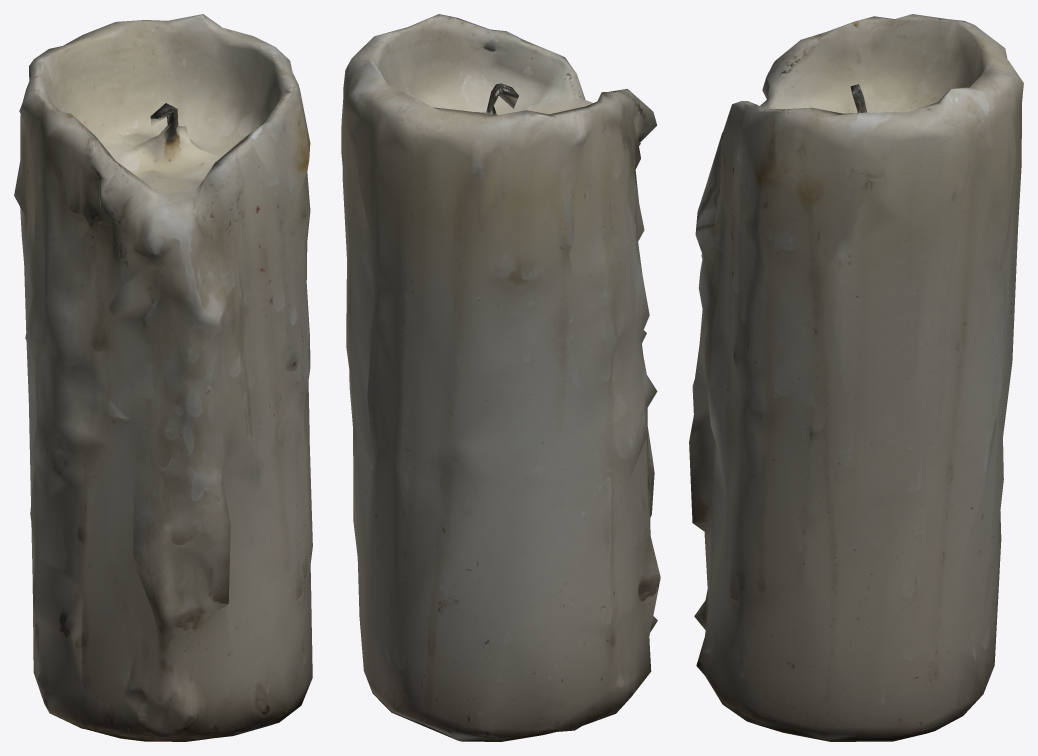
The model's file is SM_Candle_01_01.fbx.
3 renders of one model, left to right at view 1: azimuth 30°, elevation 25°; view 2: azimuth 150°, elevation 25°; view 3: azimuth 270°, elevation 25°, orthographic. The views are drawn at different scales.
Parts seen in each view (by area): view 1: sm_Candle_01_01_LOD0; view 2: sm_Candle_01_01_LOD0; view 3: sm_Candle_01_01_LOD0.
Boxes of the visible parts, box(x1,y1,x2,y2) form: sm_Candle_01_01_LOD0: box(14, 14, 312, 741); sm_Candle_01_01_LOD0: box(341, 14, 660, 741); sm_Candle_01_01_LOD0: box(689, 14, 1023, 741).
Bounding box in the file's own units: 9.88 × 9.13 × 21.32.
